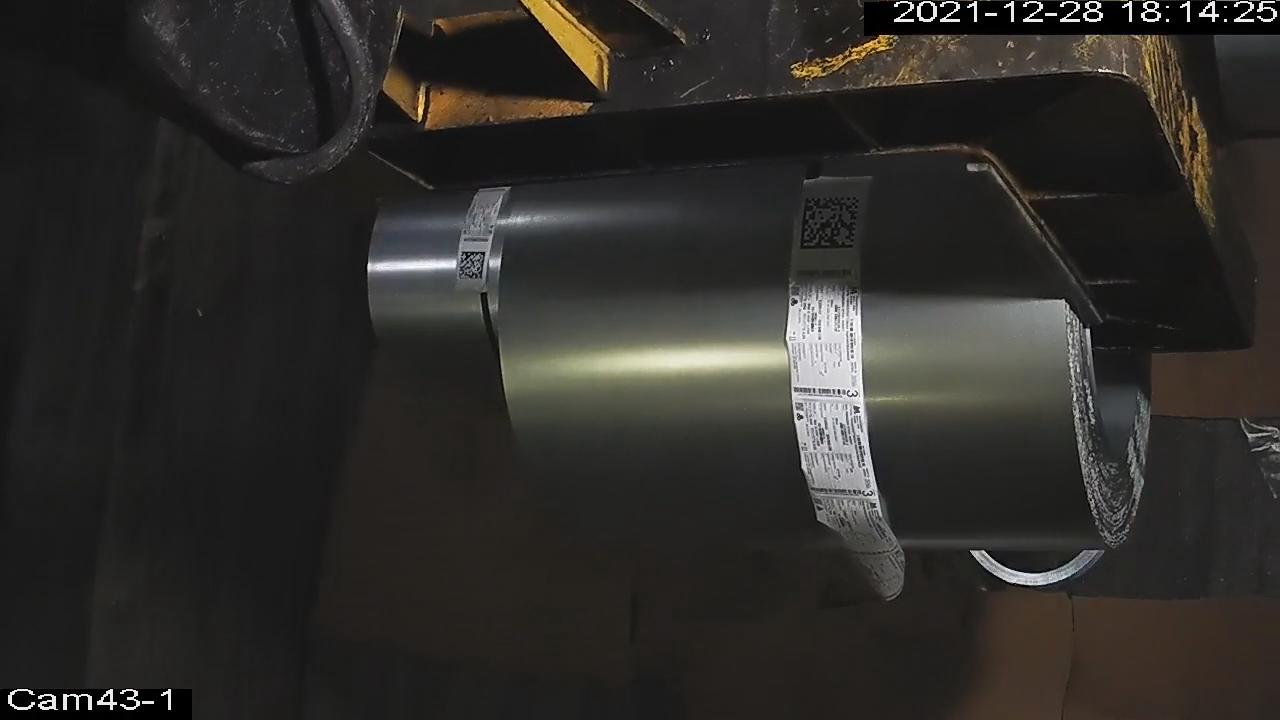data matrix: (799, 193, 864, 254), (457, 250, 488, 283)
